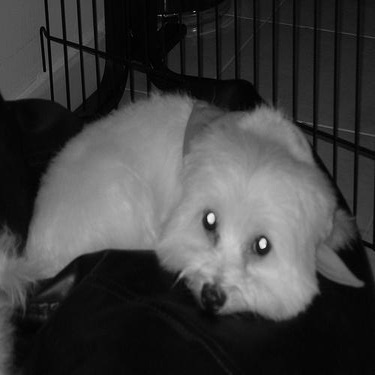dog: (17, 90, 368, 322), (1, 208, 33, 371)
